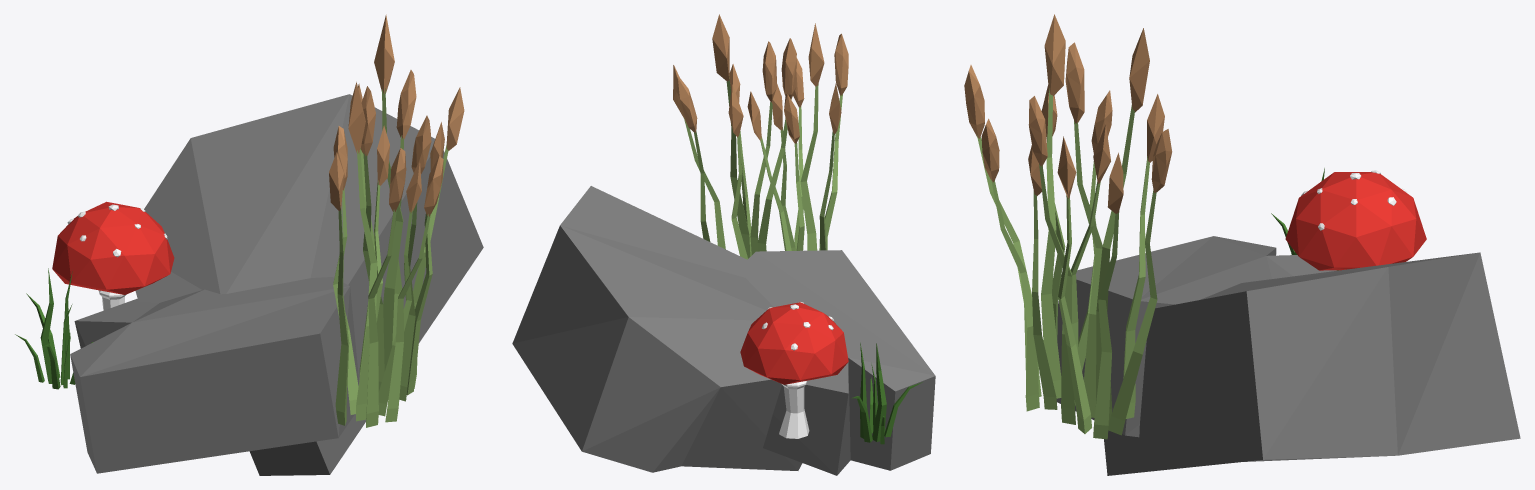
Rendered from rock3.glb.
3 views of the same model, side by side, from view 1: azimuth 30°, elevation 25°; view 2: azimuth 150°, elevation 25°; view 3: azimuth 270°, elevation 25° (orthographic). The views are drawn at different scales.
Parts seen in each view (by area): view 1: Mushrooms_grass3; view 2: Mushrooms_grass3; view 3: Mushrooms_grass3.
Boxes of the visible parts, x1,y1,x2,y2 form: Mushrooms_grass3: [15, 14, 483, 475]; Mushrooms_grass3: [512, 14, 935, 475]; Mushrooms_grass3: [964, 14, 1520, 475].
Bounding box in the file's own units: 1.34 × 1.3 × 1.3.
